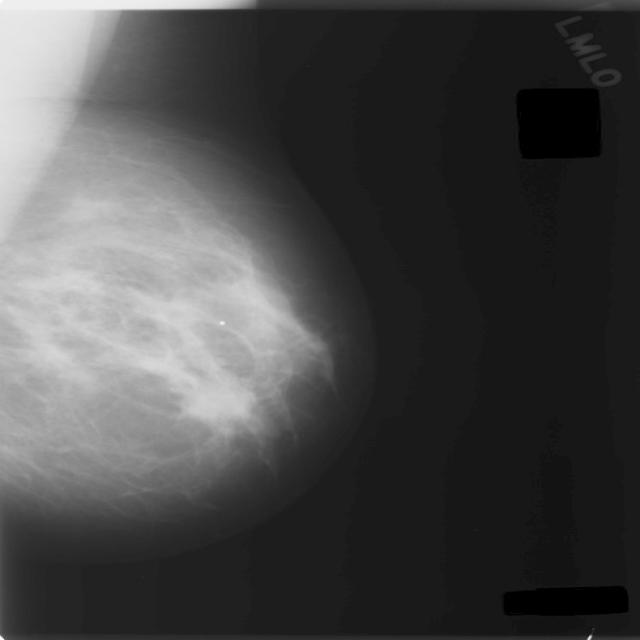tumour: (178, 378, 255, 422)
